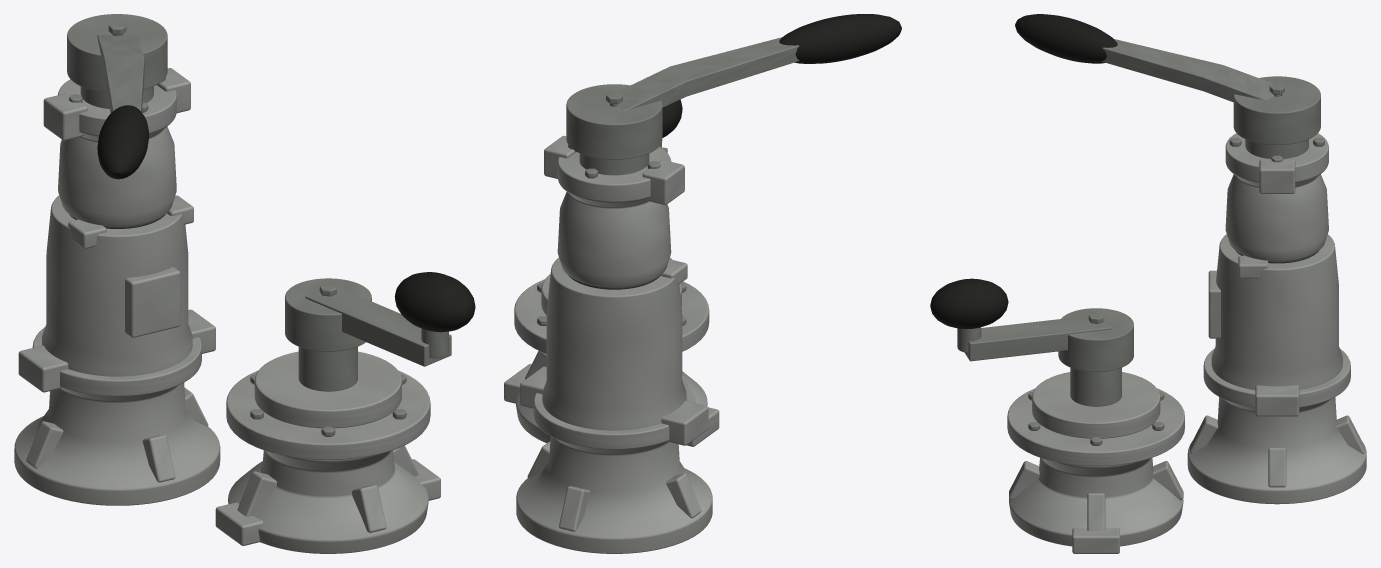
Rendered from brake_valves_connection_with_handles.glb.
The picture shows the model from 3 angles, left to right: view 1: azimuth 30°, elevation 25°; view 2: azimuth 150°, elevation 25°; view 3: azimuth 270°, elevation 25°; orthographic projection. The views are drawn at different scales.
Visible parts, largest first — view 1: Tall_Lower_Casting, Short_Lower_Casting, Tall_Upper_Casting, Short_Flange, Short_Cover, Tall_Removable_Hub, Short_Compact_Arm, Short_Removable_Hub, Short_Distinct_Grip, Tall_Front_Cast_Boss, Tall_Lower_Flange, Tall_Distinct_Grip (+15 smaller); view 2: Tall_Lower_Casting, Tall_Upper_Casting, Tall_Removable_Hub, Tall_Dogleg_Arm, Tall_Distinct_Grip, Short_Flange, Tall_Lower_Flange, Tall_Lower_Flange_Ear_1, Tall_Cap_Ear_1, Tall_Exposed_Spindle, Short_Lower_Casting, Tall_Foot_Rib_1 (+5 smaller); view 3: Tall_Lower_Casting, Short_Lower_Casting, Tall_Upper_Casting, Short_Flange, Short_Cover, Tall_Removable_Hub, Tall_Dogleg_Arm, Short_Compact_Arm, Short_Removable_Hub, Tall_Distinct_Grip, Short_Distinct_Grip, Tall_Lower_Flange (+13 smaller).
Boxes of the visible parts, x1,y1,x2,y2 form: Tall_Lower_Casting: (14, 195, 220, 505); Short_Lower_Casting: (228, 450, 428, 553); Tall_Upper_Casting: (58, 79, 176, 226); Short_Flange: (226, 370, 430, 459); Short_Cover: (254, 351, 401, 428); Tall_Removable_Hub: (67, 14, 167, 92); Short_Compact_Arm: (305, 286, 451, 366); Short_Removable_Hub: (285, 278, 371, 351); Short_Distinct_Grip: (394, 272, 475, 332); Tall_Front_Cast_Boss: (125, 266, 180, 337); Tall_Lower_Flange: (32, 327, 201, 396); Tall_Distinct_Grip: (97, 105, 148, 179); Tall_Lower_Casting: (516, 257, 712, 553); Tall_Upper_Casting: (557, 146, 671, 287); Tall_Removable_Hub: (566, 84, 662, 159); Tall_Dogleg_Arm: (616, 37, 799, 111); Tall_Distinct_Grip: (779, 14, 901, 63); Short_Flange: (514, 279, 709, 353); Tall_Lower_Flange: (533, 383, 695, 449); Tall_Lower_Flange_Ear_1: (661, 400, 708, 445); Tall_Cap_Ear_1: (642, 160, 684, 205); Tall_Exposed_Spindle: (579, 153, 649, 175); Short_Lower_Casting: (516, 371, 707, 443); Tall_Foot_Rib_1: (559, 486, 589, 531); Tall_Lower_Casting: (1187, 234, 1366, 504); Short_Lower_Casting: (1009, 458, 1183, 546); Tall_Upper_Casting: (1225, 133, 1328, 261); Short_Flange: (1007, 388, 1184, 466); Short_Cover: (1032, 372, 1160, 438); Tall_Removable_Hub: (1233, 76, 1320, 144); Tall_Dogleg_Arm: (1102, 39, 1285, 102); Short_Compact_Arm: (964, 314, 1111, 361); Short_Removable_Hub: (1058, 308, 1133, 371); Tall_Distinct_Grip: (1015, 14, 1117, 63); Short_Distinct_Grip: (930, 278, 1008, 329); Tall_Lower_Flange: (1203, 349, 1350, 407).
Bounding box in the file's own units: 0.1825 × 0.2205 × 0.2195.
Materials: 4 (2 with a texture image).
